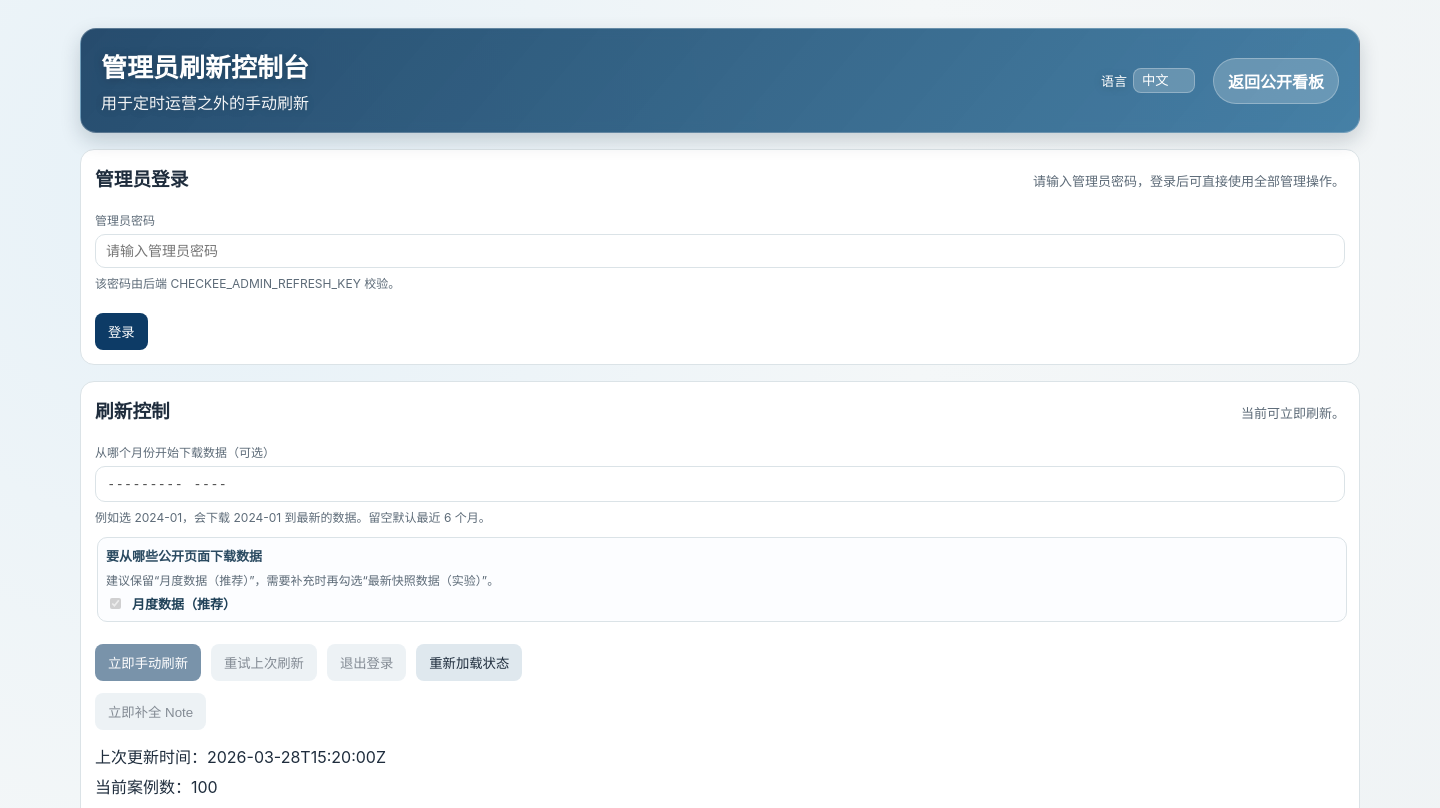
it: AdminPage › 应按来源分区展示且 N/A 行只读
Step 1. Type "Zcb070920!" into the password field with placeholder "请输入管理员密码" → (720, 251), box [95, 234, 1345, 268]
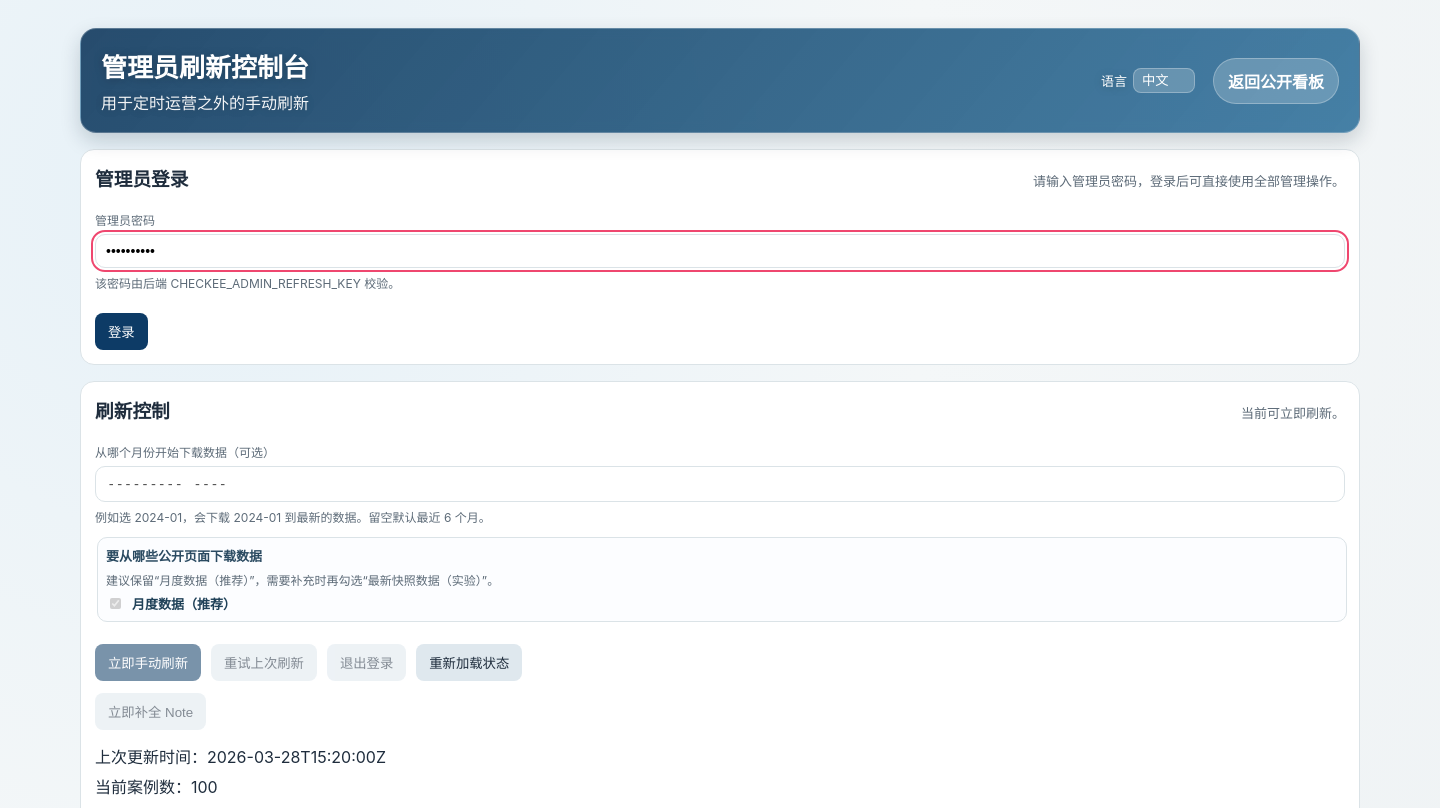
Step 2. Click the button "登录" → (121, 332), box [95, 313, 148, 350]
(page scrolled)
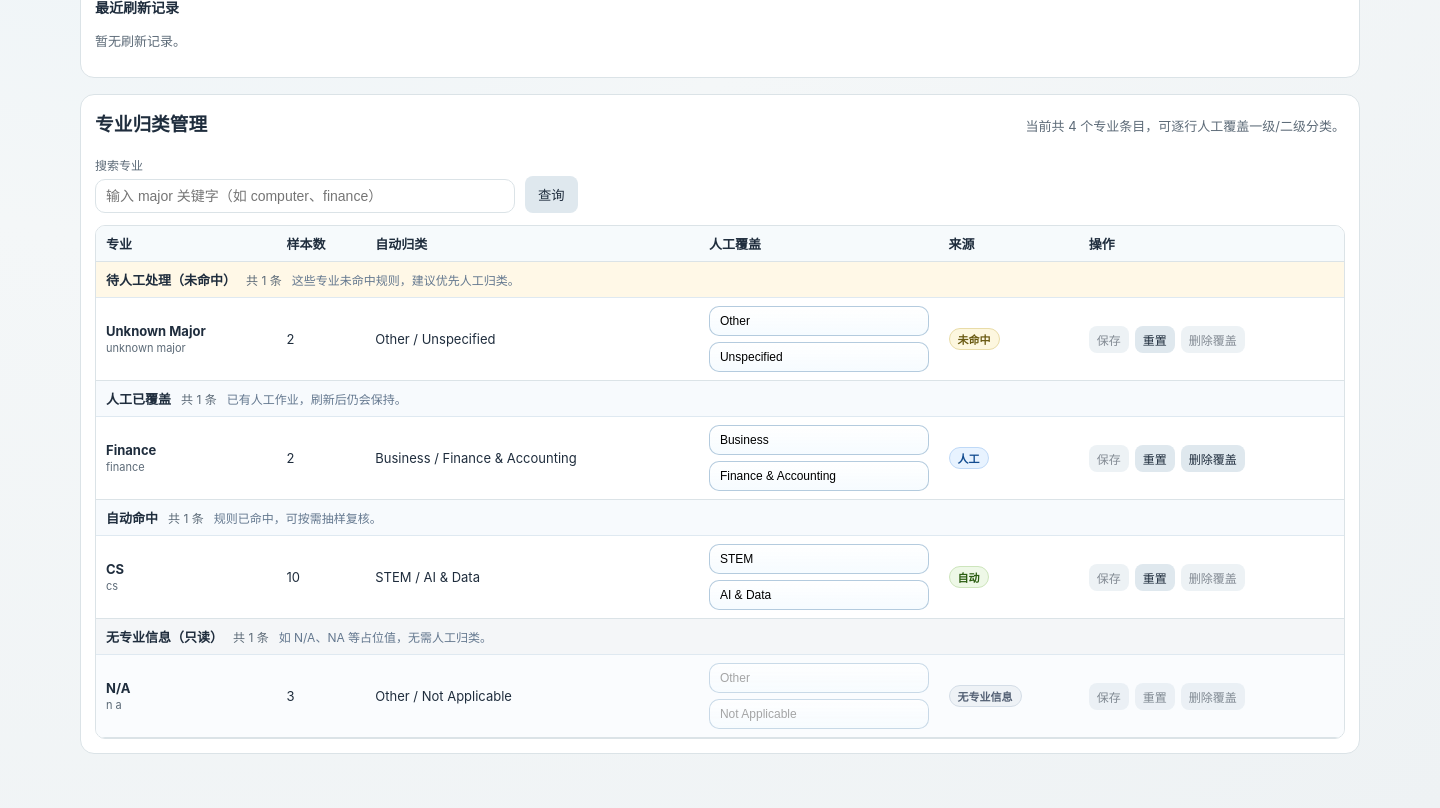
Check: the text "待人工处理（未命中）" is shown, box [106, 270, 236, 289]
Check: the text "人工已覆盖" is shown, box [106, 389, 171, 408]
Check: the text "自动命中" is shown, box [106, 508, 158, 527]
